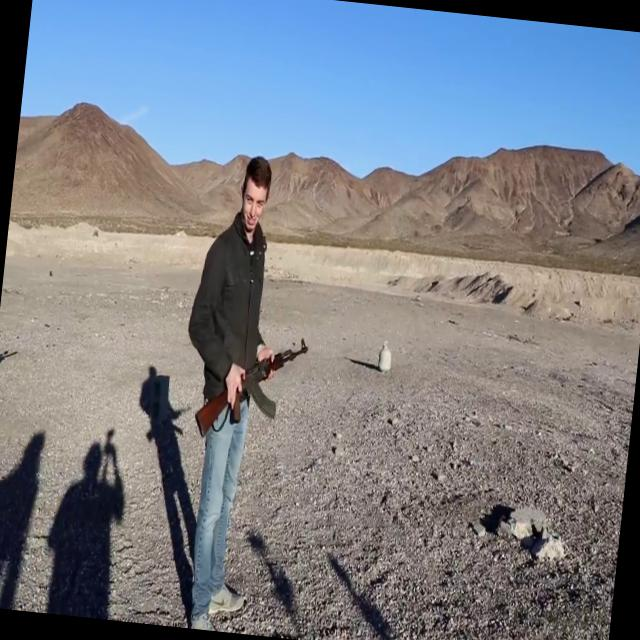long weapon: (193, 321, 321, 464)
